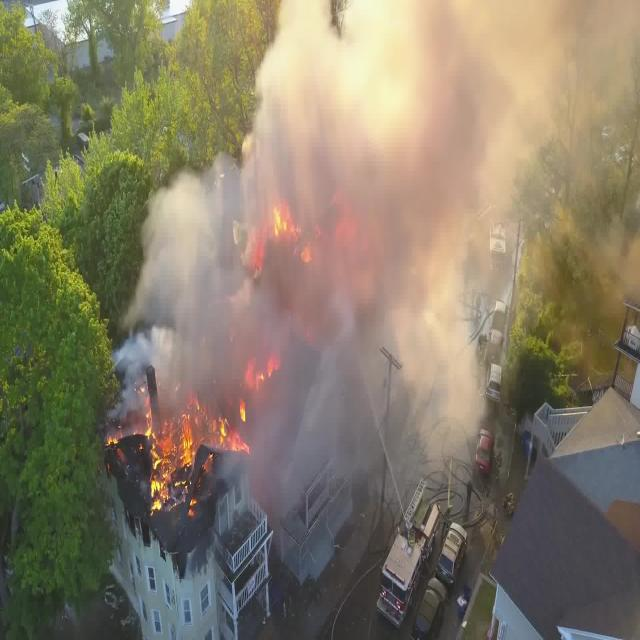Fire: (110, 336, 285, 498)
Smoke: (131, 0, 638, 508)
